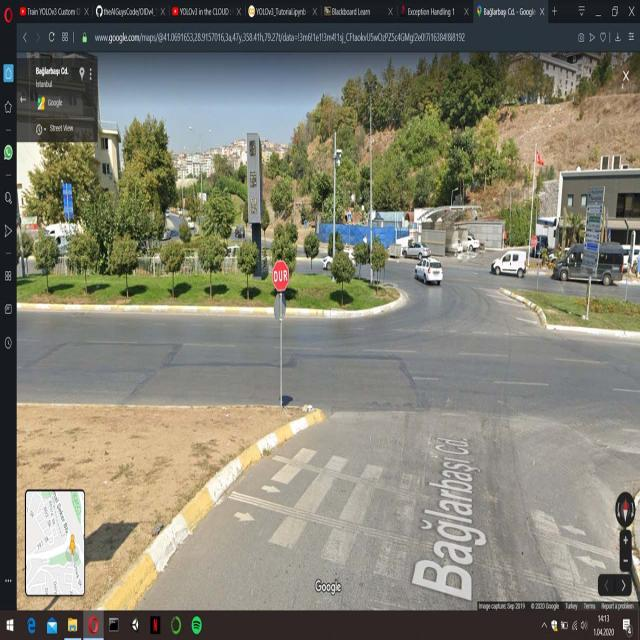dur: (272, 262, 290, 292)
